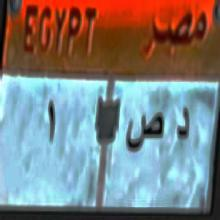1: (46, 96, 59, 156)
daal: (175, 100, 191, 156)
saad: (126, 107, 164, 166)
